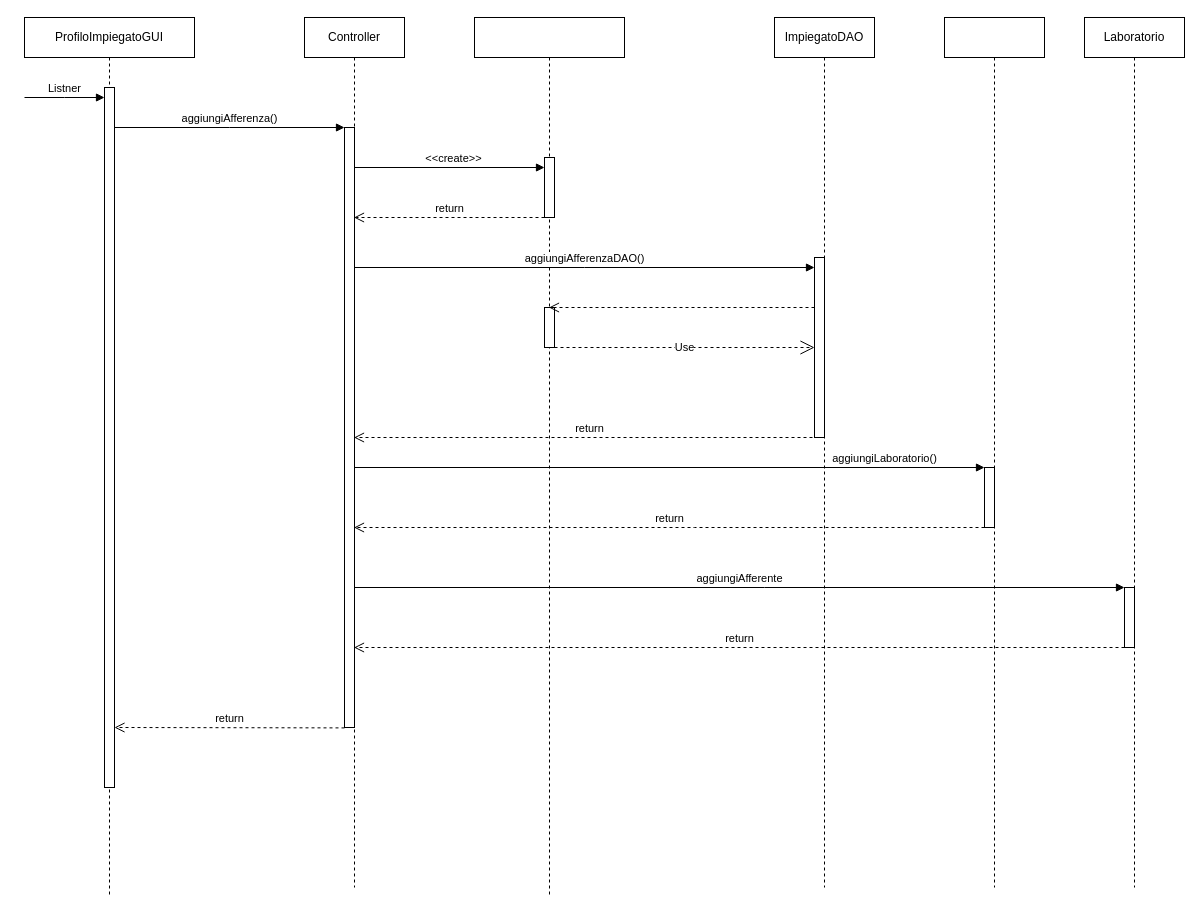
Some shapes in this 1202 by 915 pixel diagram are drawn without their labels. The shapes that lost their labels are listed below. From the top down, each one's box as (x1, y1, x2, y2) in pixels, then its label:
(474, 16, 624, 898): ImpiegatoPostgresDAO
(944, 16, 1044, 888): Impiegato
